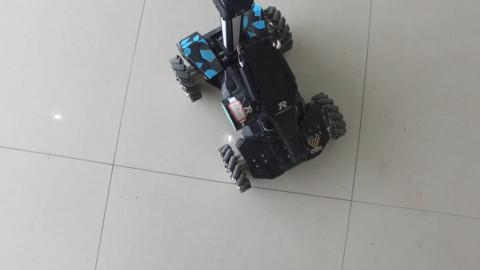chariot: (162, 1, 334, 187)
